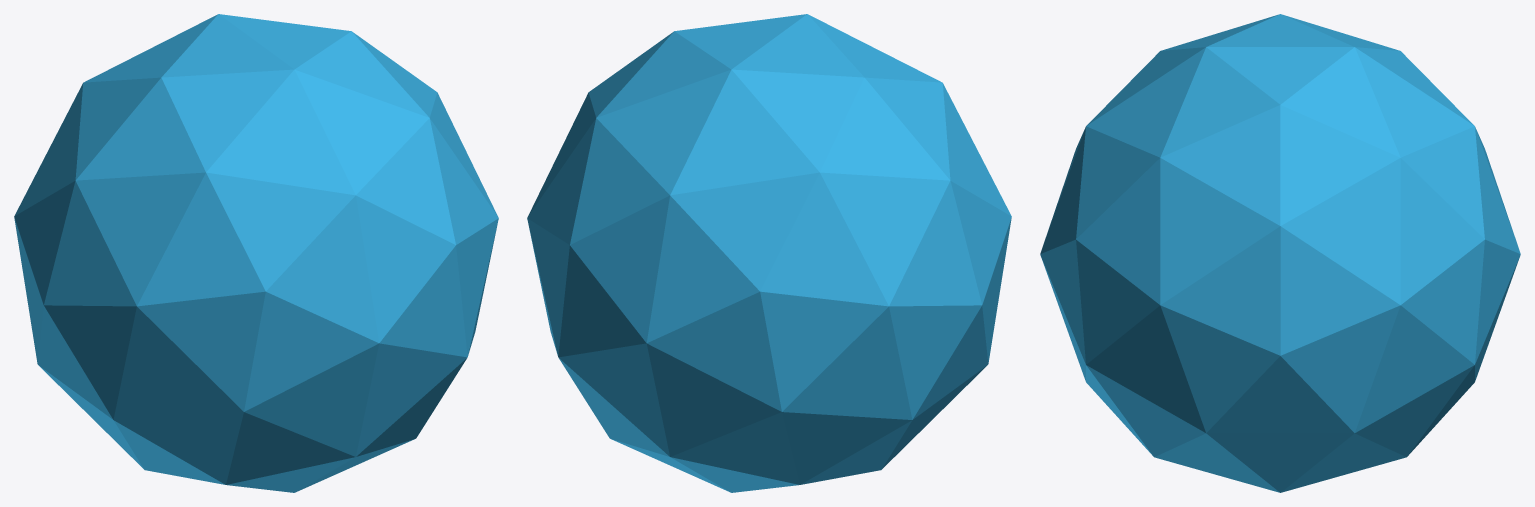
3 views of the same model, side by side, from view 1: azimuth 30°, elevation 25°; view 2: azimuth 150°, elevation 25°; view 3: azimuth 270°, elevation 25° (orthographic). The views are drawn at different scales.
Visible parts, largest first — view 1: Large; view 2: Large; view 3: Large.
Part boxes in pixels (box(x1,y1,x2,y2)): Large: box(14, 14, 498, 492); Large: box(527, 14, 1011, 492); Large: box(1040, 14, 1520, 492).
Bounding box in the file's own units: 4 × 3.8 × 4.
